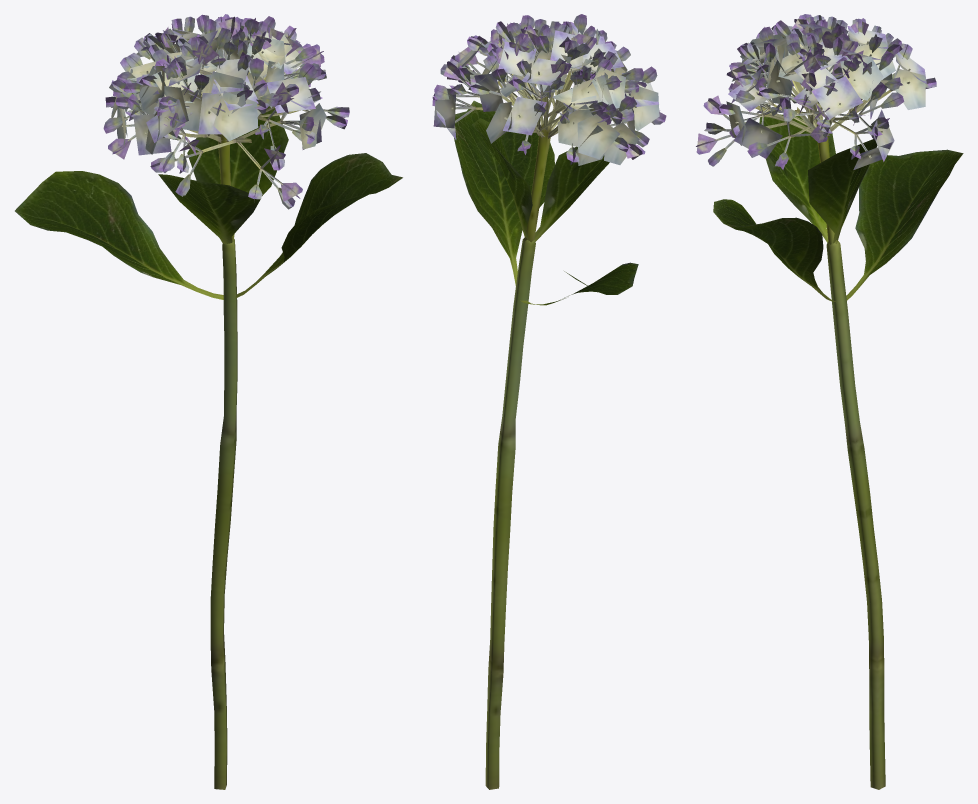
Rendered from Hydrangea_baby_normal_magenta.glb.
The picture shows the model from 3 angles, left to right: view 1: azimuth 30°, elevation 25°; view 2: azimuth 150°, elevation 25°; view 3: azimuth 270°, elevation 25°; orthographic projection. The views are drawn at different scales.
Parts seen in each view (by area): view 1: BABY; view 2: BABY; view 3: BABY.
Boxes of the visible parts, x1,y1,x2,y2 form: BABY: [15, 14, 402, 789]; BABY: [432, 14, 666, 789]; BABY: [696, 14, 963, 789].
Bounding box in the file's own units: 0.7928 × 2.22 × 0.7195.
Materials: 1 (1 with a texture image).
